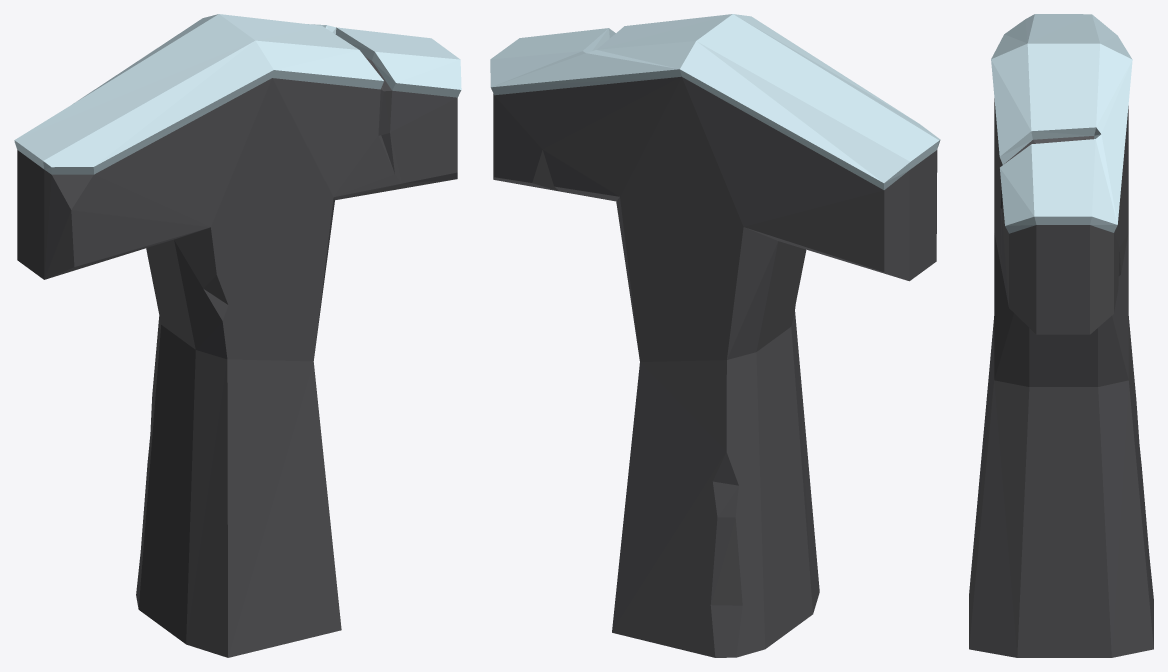
Rendered from SM_Prop_Rock_Totem_01_Snow.fbx.
3 views of the same model, side by side, from view 1: azimuth 30°, elevation 25°; view 2: azimuth 150°, elevation 25°; view 3: azimuth 270°, elevation 25° (orthographic).
Visible parts, largest first — view 1: SM_Prop_Rock_Totem_01_Snow; view 2: SM_Prop_Rock_Totem_01_Snow; view 3: SM_Prop_Rock_Totem_01_Snow.
Boxes of the visible parts, left/top/right/bottom form: SM_Prop_Rock_Totem_01_Snow: left=14, top=14, right=461, bottom=657; SM_Prop_Rock_Totem_01_Snow: left=490, top=14, right=940, bottom=657; SM_Prop_Rock_Totem_01_Snow: left=969, top=14, right=1153, bottom=657.
Bounding box in the file's own units: 259 × 345 × 100.
